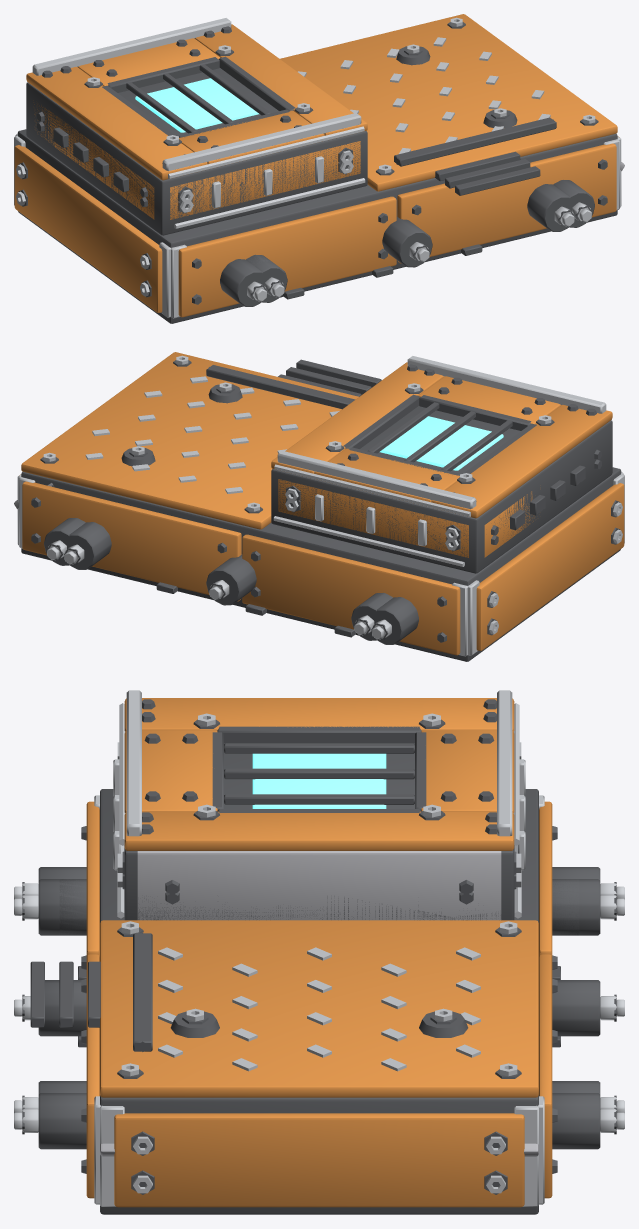
3 renders of one model, top to bottom at view 1: azimuth 30°, elevation 25°; view 2: azimuth 150°, elevation 25°; view 3: azimuth 270°, elevation 25°, orthographic. The views are drawn at different scales.
Visible parts, largest first — view 1: body; view 2: body; view 3: body.
Boxes of the visible parts, <box> form: body: <box>14,14,624,323</box>; body: <box>14,352,624,661</box>; body: <box>14,690,624,1214</box>.
Size of the model in its own units: 0.8148 by 0.253 by 0.64.
